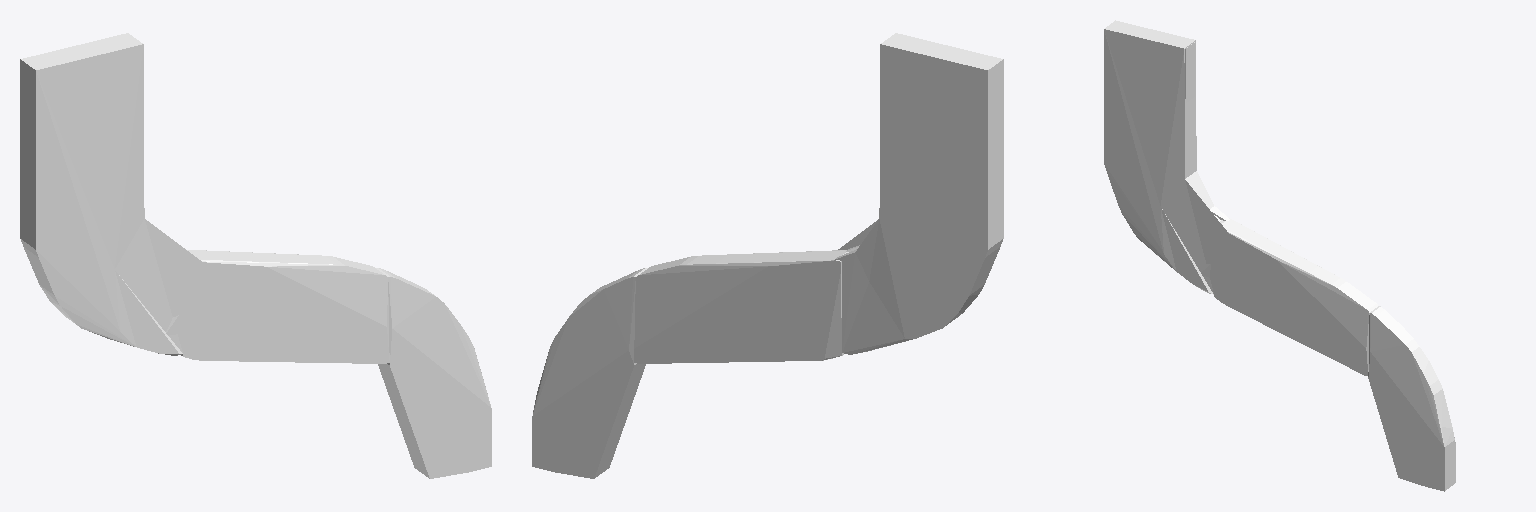
robot.urdf — ground_test:
<?xml version="0.0" ?>
<robot name="ground_test">
  <link name="grpundLink">
  <contact>
      <lateral_friction value="1"/>
  </contact>
    <inertial>
      <origin rpy="0 0 0" xyz="0 0 0"/>
       <mass value=".0"/>
       <inertia ixx="0" ixy="0" ixz="0" iyy="0" iyz="0" izz="0"/>
    </inertial>
    <visual>
      <origin rpy="0 0 0" xyz="0 0 0"/>
      <geometry>
				<mesh filename="pathtrack.obj" scale="1 1 1"/>
      </geometry>
       <material name="white">
        <color rgba="1 1 1 1"/>
      </material>
    </visual>
    <collision>
      <origin rpy="0 0 0" xyz="0 0 0"/>
      <geometry>
	 	<mesh filename="pathtrack_vhacd.obj" scale="1 1 1"/>
      </geometry>
    </collision>
  </link>
</robot>

--- Render facts (derived) ---
3 views of the same robot in one strip: view 1: azimuth 30°, elevation 25°; view 2: azimuth 150°, elevation 25°; view 3: azimuth 330°, elevation 25° (orthographic).
Model ground_test with 1 links and 0 joints (none), rooted at grpundLink, posed all joints at 0.
Visible links, largest first — view 1: grpundLink; view 2: grpundLink; view 3: grpundLink.
Link boxes in pixels (x1=…): grpundLink: x1=20, y1=33, x2=491, y2=478; grpundLink: x1=532, y1=33, x2=1003, y2=478; grpundLink: x1=1104, y1=20, x2=1455, y2=491.
Bounding box of the posed robot: 4.27 × 0.2863 × 4.55 m (x, y, z).
Meshes: 1 distinct files referenced, 1 mesh visuals loaded (1 OBJ).